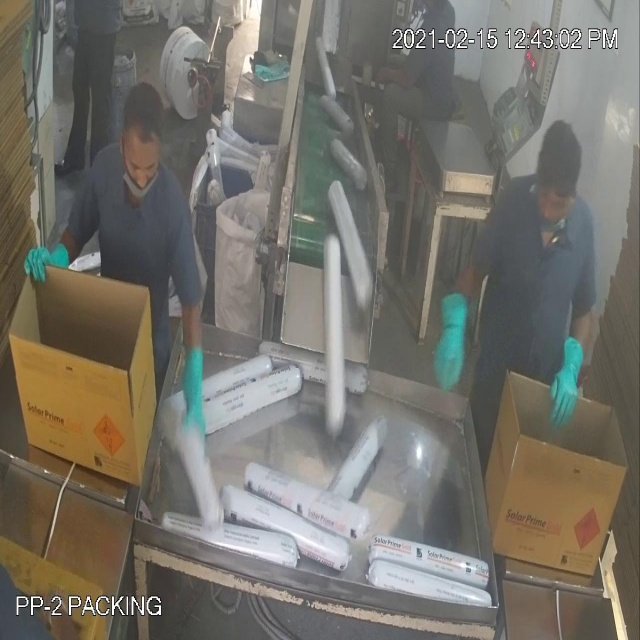Guantes: (419, 270, 479, 409), (160, 346, 217, 447), (538, 315, 583, 437), (11, 231, 69, 285)
